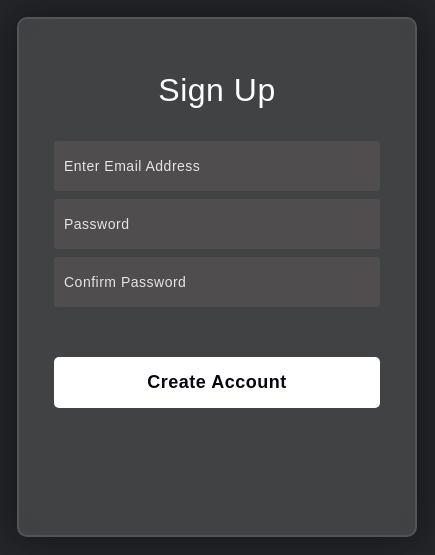
Test: fill up the form with incorrect entries
Type "testexample.com" into the field with placeholder "Enter Email Address".
click(217, 166); type("testexample.com")  # box [54,141,380,191]
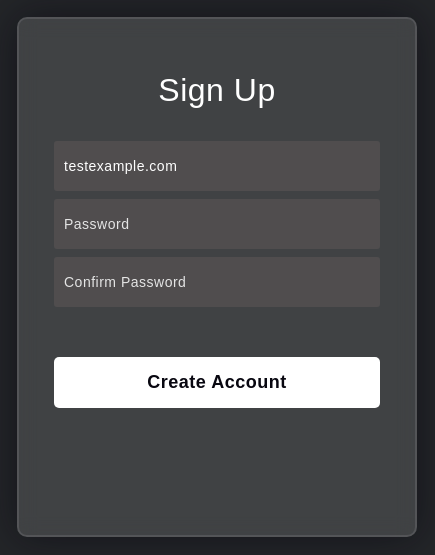
Type "pass" into the password field with placeholder "Password".
click(217, 224); type("pass")  # box [54,199,380,249]
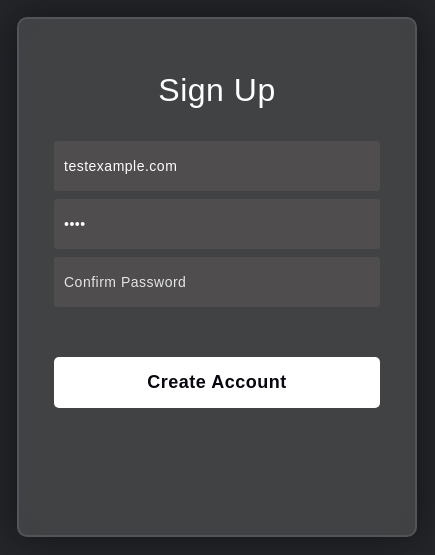
Type "pas" into the password field with placeholder "Confirm Password".
click(217, 282); type("pas")  # box [54,257,380,307]
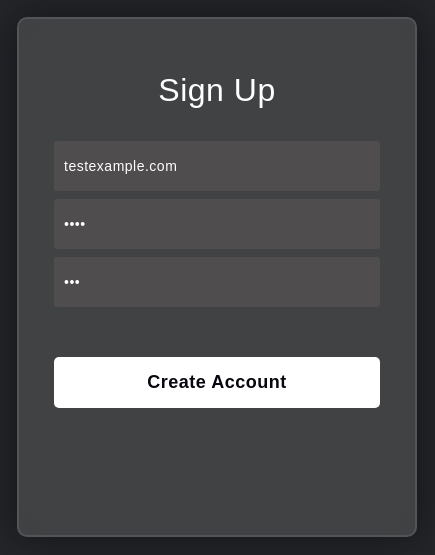
Click the button "Create Account".
click(217, 382)  # box [54,357,380,408]
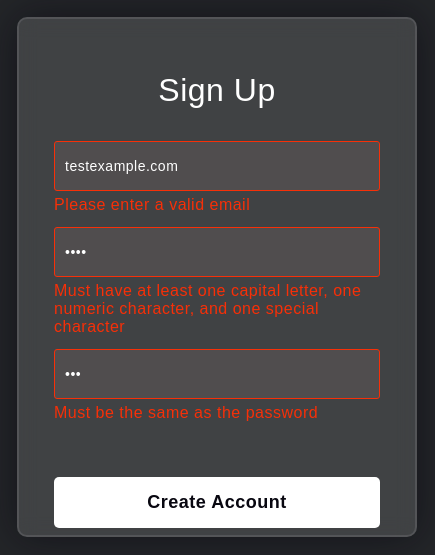
expect the text "Please enter a valid email" is shown: met, box [54,196,250,213]
expect the text "Must have at least one capital letter, one numeric character, and one special character" is shown: met, box [54,282,361,335]
expect the text "Must be the same as the password" is shown: met, box [54,404,318,421]
